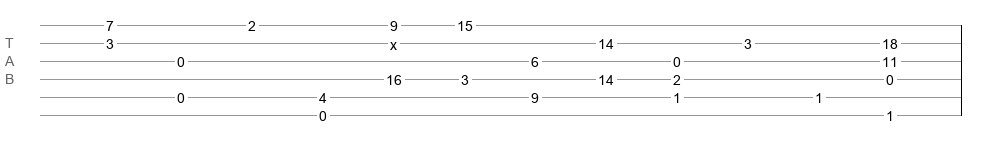0: (177, 90, 185, 100), (177, 54, 185, 64), (319, 108, 327, 118), (673, 54, 681, 64), (886, 72, 894, 82)
1: (673, 90, 681, 100), (815, 90, 823, 100), (886, 108, 894, 118)
11: (882, 54, 898, 64)
14: (598, 72, 614, 82), (598, 36, 614, 46)
15: (457, 18, 473, 28)
16: (386, 72, 402, 82)
18: (882, 36, 898, 46)
2: (248, 18, 256, 28), (673, 72, 681, 82)
3: (106, 36, 114, 46), (461, 72, 469, 82), (744, 36, 752, 46)
4: (319, 90, 327, 100)
6: (531, 54, 539, 64)
7: (106, 18, 114, 28)
9: (390, 18, 398, 28), (531, 90, 539, 100)
x: (390, 37, 397, 45)
